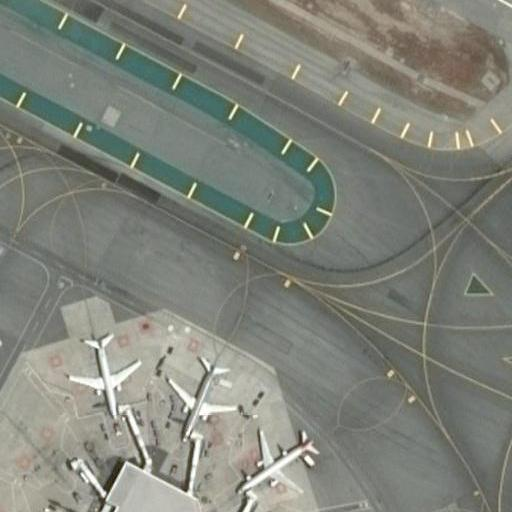Aircraft: (232, 427, 322, 509), (157, 349, 236, 440), (66, 324, 137, 413), (0, 278, 14, 370)
